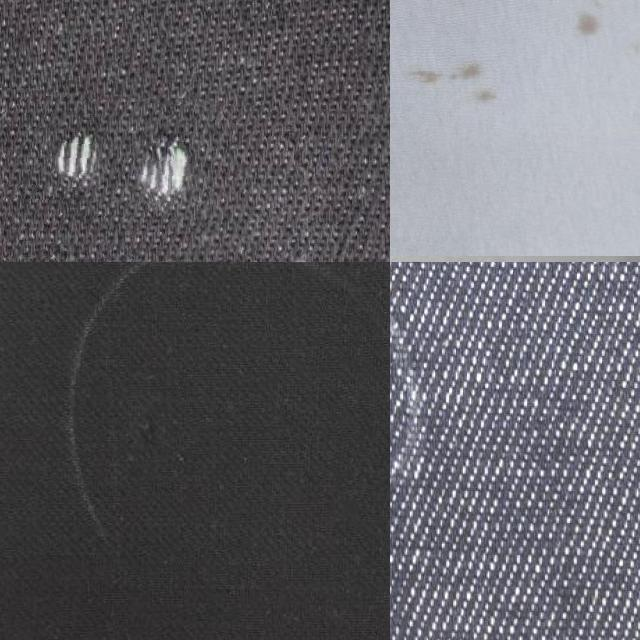Thread_other: (390, 22, 526, 154), (548, 0, 640, 121)
stains: (0, 93, 379, 262), (336, 401, 390, 539)
